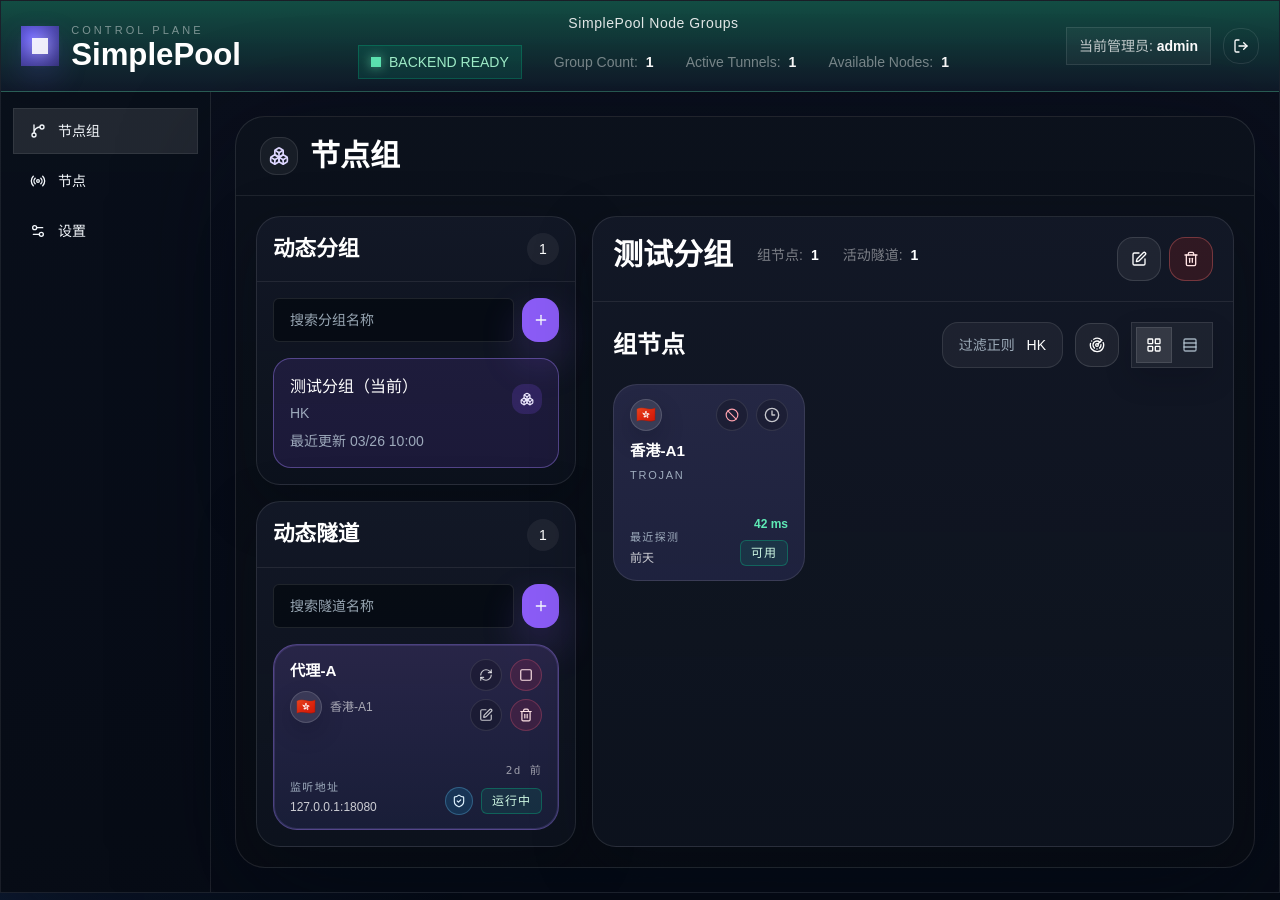
Test case: App › 动态隧道启动停止只更新卡片且不重新拉取整个工作区
The width and height of the screenshot is (1280, 900).
Click the button named "停止 代理-A" at (526, 675), box [510,659,542,691]
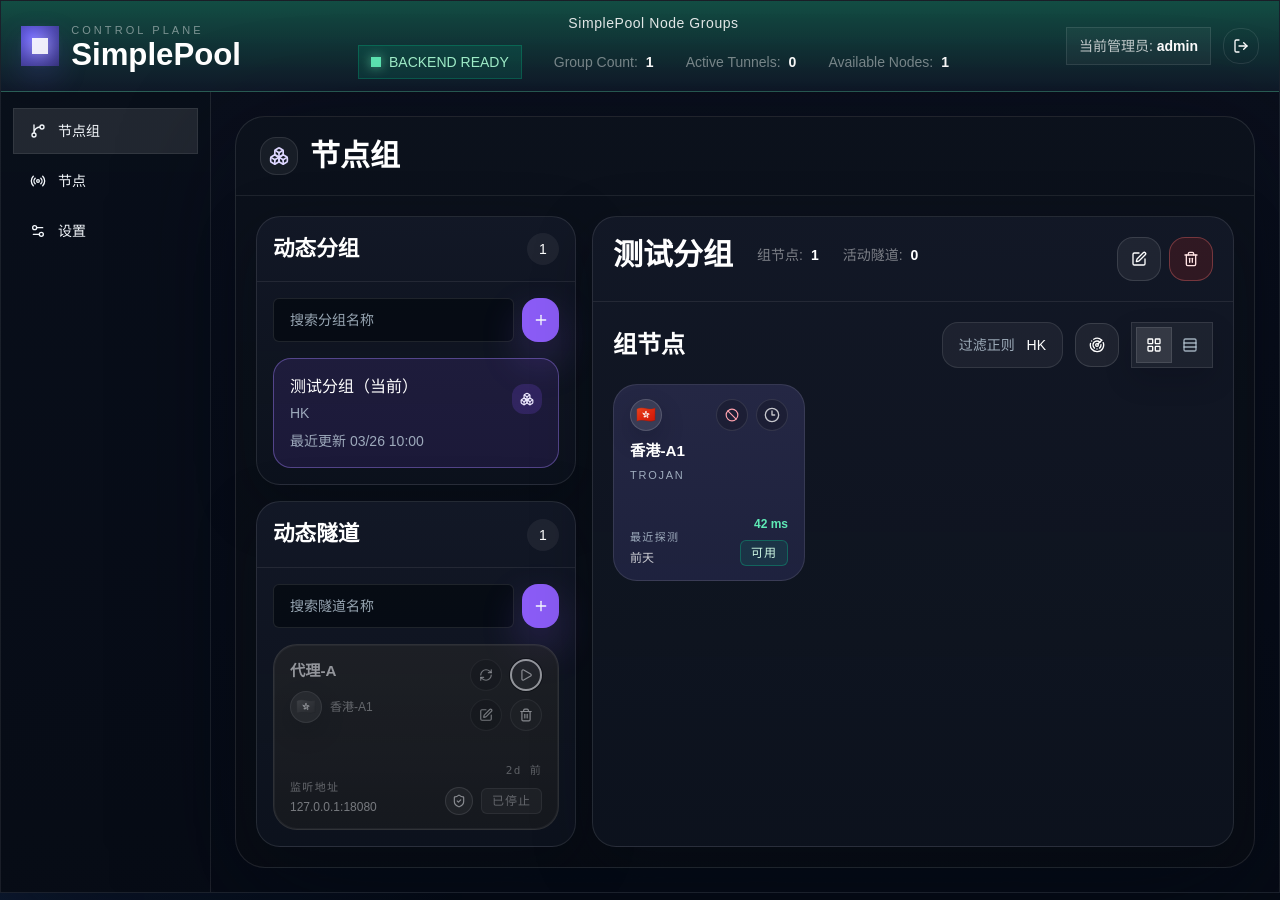
expect the button named "启动 代理-A" is shown: met
Click the button named "启动 代理-A" at (526, 675), box [510,659,542,691]
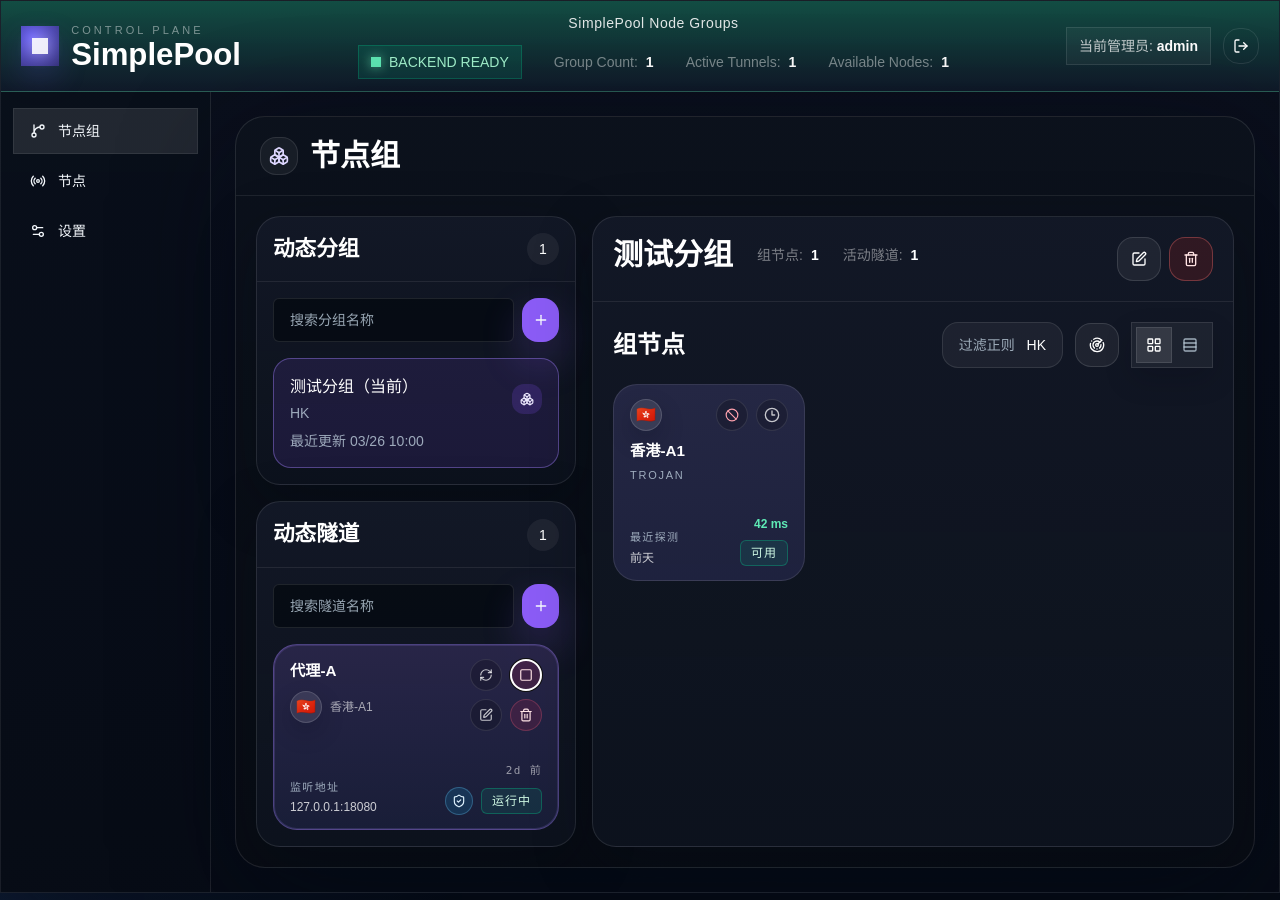
expect the 2nd text "香港-A1" is shown: met, box [330,699,373,715]
expect the button named "停止 代理-A" is shown: met, box [510,659,542,691]
